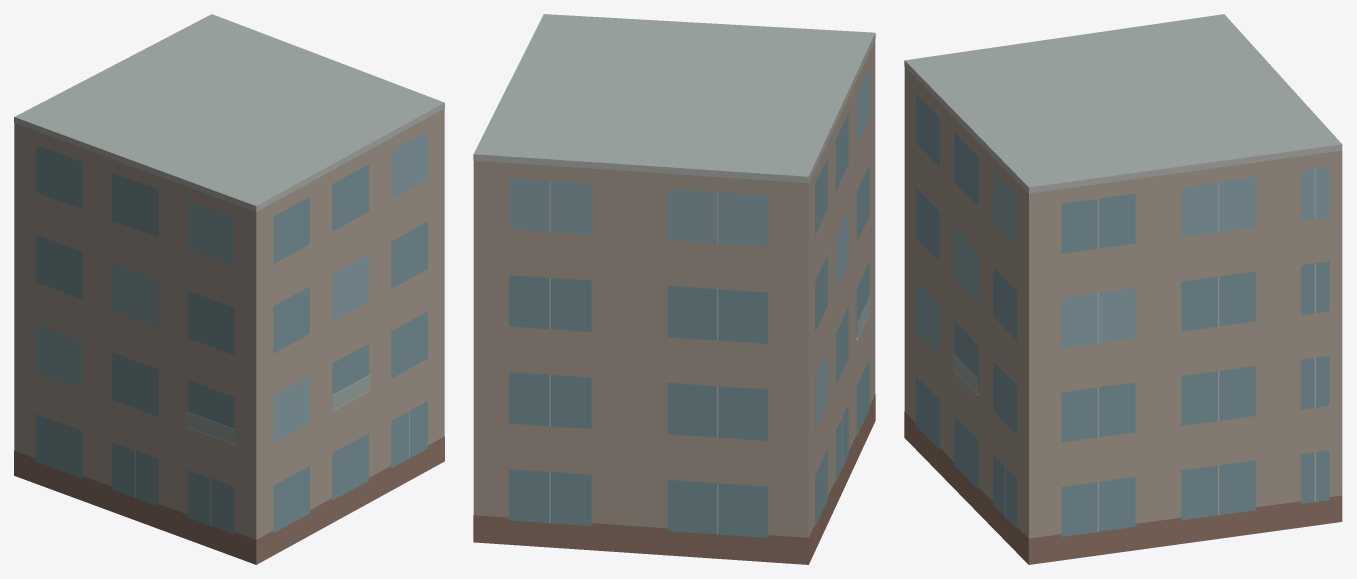
File: survey-upis-32855399.glb
3 renders of one model, left to right at view 1: azimuth 30°, elevation 25°; view 2: azimuth 150°, elevation 25°; view 3: azimuth 270°, elevation 25°, orthographic. The views are drawn at different scales.
Parts seen in each view (by area): view 1: survey-upis-32855399.tmp; view 2: survey-upis-32855399.tmp; view 3: survey-upis-32855399.tmp.
Part boxes in pixels (x1,y1,x2,y2): survey-upis-32855399.tmp: [14, 14, 444, 564]; survey-upis-32855399.tmp: [473, 14, 875, 564]; survey-upis-32855399.tmp: [904, 14, 1342, 564].
Bounding box in the file's own units: 14.49 × 14.7 × 15.46.
